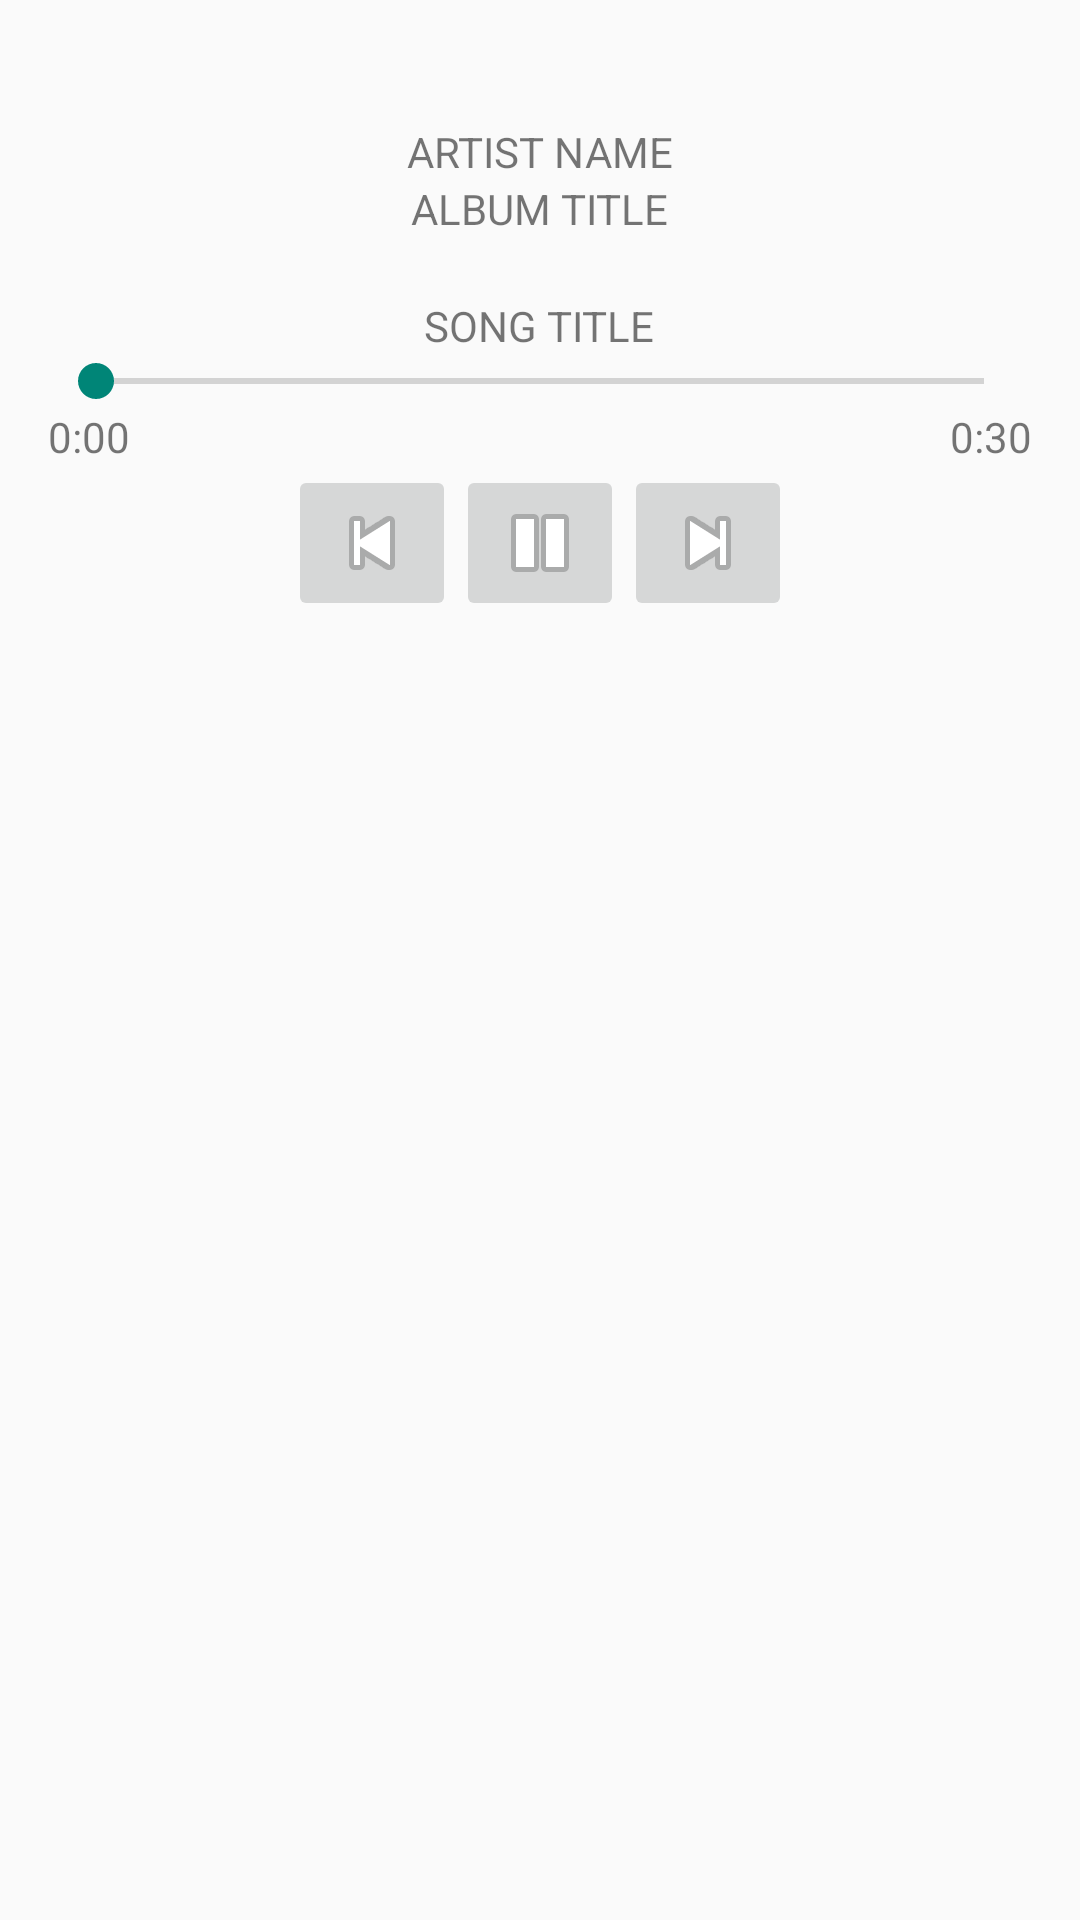

Where to tap for icons on this 1080×1920 app screen, as (x=x, y=y):
next: (x=708, y=543)
pause: (x=540, y=543)
previous: (x=372, y=543)
